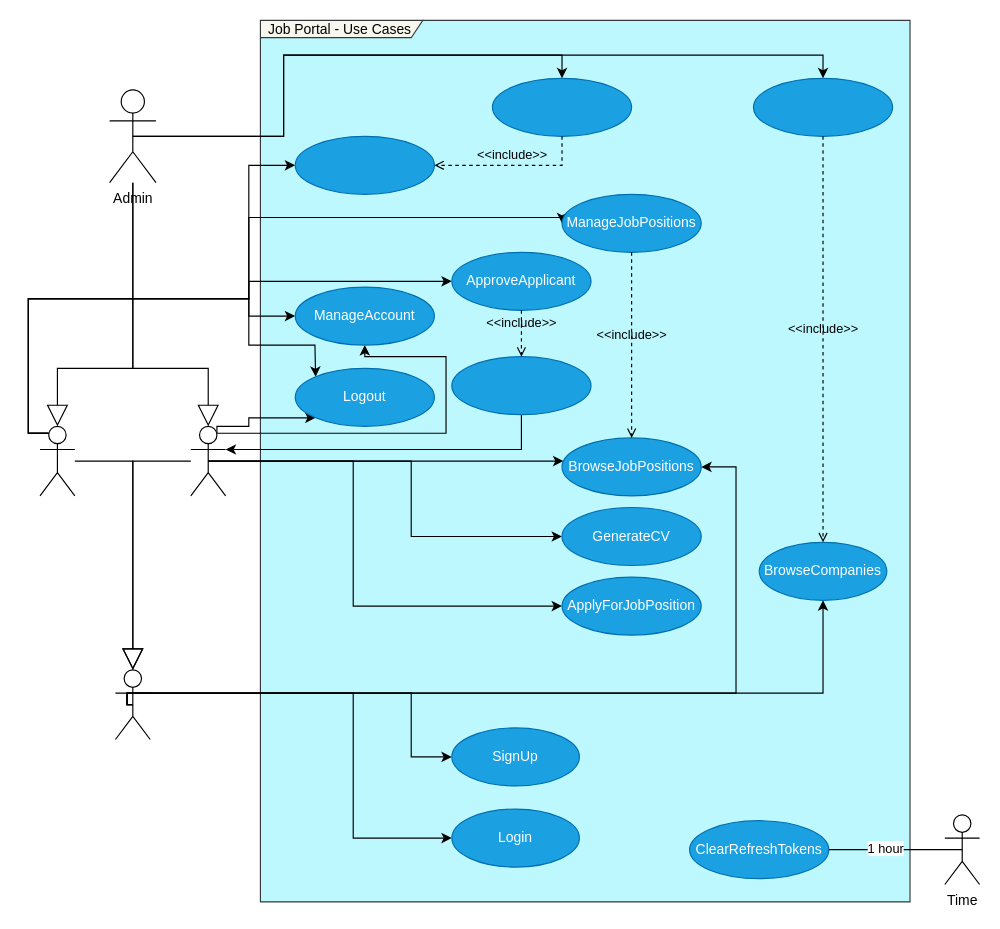
This 1000x929 diagram has some shape labels left out. The box of each missing label's shape, as (x1, y1, x2, y2) in pixels:
AuthorizedUser: (190, 425, 226, 496)
BrowsUsers: (294, 135, 434, 194)
Company: (39, 425, 75, 496)
ManageCompanies: (752, 77, 893, 136)
ManageUsers: (491, 77, 632, 136)
SendNotification: (451, 356, 591, 415)
UnauthorizedUser: (114, 669, 150, 740)
